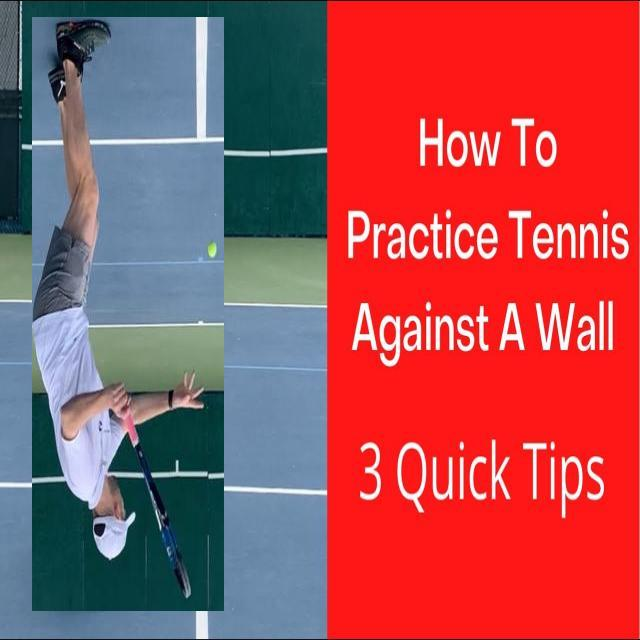player: (32, 17, 224, 611)
